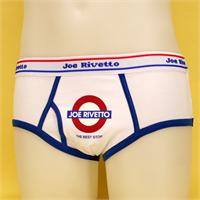mutande: (11, 51, 192, 161)
